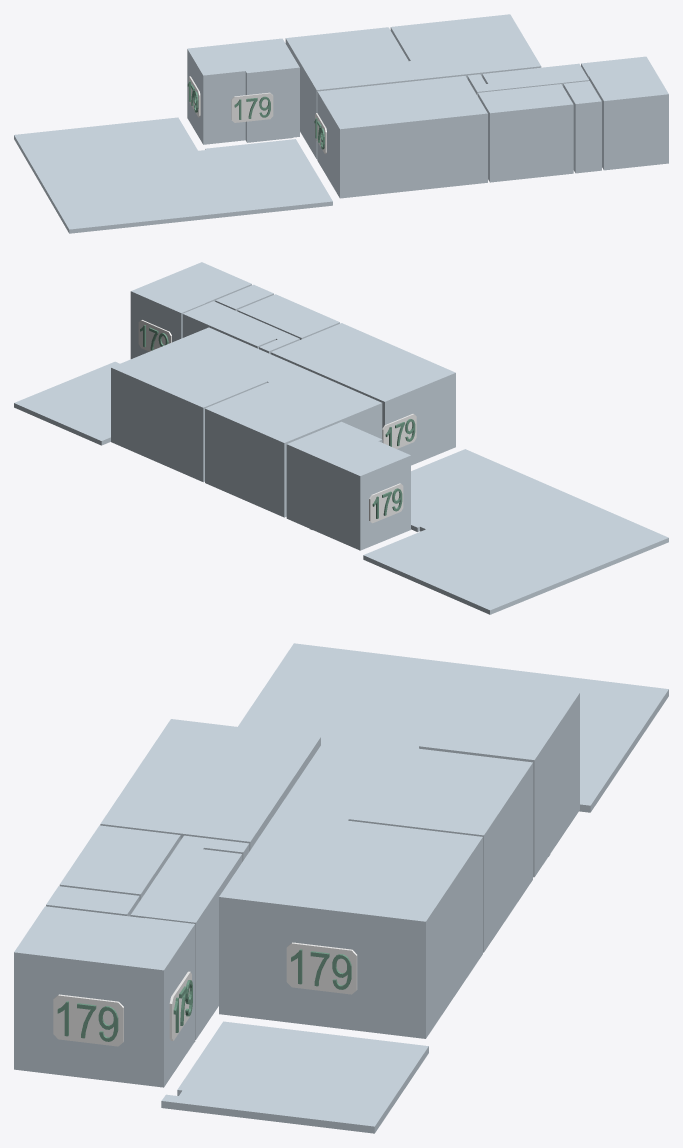
3 renders of one model, top to bottom at view 1: azimuth 30°, elevation 25°; view 2: azimuth 150°, elevation 25°; view 3: azimuth 270°, elevation 25°, orthographic. The views are drawn at different scales.
Parts seen in each view (by area): view 1: g_9, g_1, g_0, g_6, g_2, g_3, g_4, g_7, g_5, g_33; view 2: g_9, g_4, g_3, g_0, g_1, g_2, g_8, g_5, g_6, g_7, g_13, g_29 (+1 smaller); view 3: g_4, g_9, g_2, g_3, g_8, g_1, g_0, g_5, g_6, g_21, g_17, g_7.
Part boxes in pixels (x1=…): g_9: x1=14, y1=117, x2=332, y2=233; g_1: x1=317, y1=76, x2=487, y2=198; g_0: x1=187, y1=38, x2=299, y2=144; g_6: x1=478, y1=84, x2=573, y2=182; g_2: x1=581, y1=56, x2=668, y2=170; g_3: x1=285, y1=27, x2=421, y2=158; g_4: x1=390, y1=14, x2=541, y2=80; g_7: x1=563, y1=81, x2=601, y2=173; g_5: x1=467, y1=63, x2=589, y2=96; g_33: x1=231, y1=92, x2=273, y2=122; g_9: x1=363, y1=449, x2=668, y2=614; g_4: x1=111, y1=327, x2=300, y2=482; g_3: x1=205, y1=367, x2=382, y2=517; g_0: x1=286, y1=421, x2=410, y2=550; g_1: x1=270, y1=323, x2=455, y2=465; g_2: x1=130, y1=262, x2=251, y2=358; g_8: x1=14, y1=361, x2=119, y2=445; g_5: x1=182, y1=301, x2=299, y2=353; g_6: x1=237, y1=294, x2=339, y2=339; g_7: x1=215, y1=284, x2=273, y2=310; g_13: x1=369, y1=483, x2=403, y2=523; g_29: x1=382, y1=414, x2=416, y2=448; g_4: x1=219, y1=812, x2=482, y2=1038; g_9: x1=238, y1=643, x2=668, y2=812; g_2: x1=14, y1=906, x2=195, y2=1087; g_3: x1=276, y1=737, x2=532, y2=952; g_8: x1=161, y1=1021, x2=428, y2=1133; g_1: x1=100, y1=719, x2=320, y2=851; g_0: x1=419, y1=679, x2=579, y2=877; g_5: x1=130, y1=835, x2=249, y2=1039; g_6: x1=59, y1=825, x2=180, y2=900; g_21: x1=286, y1=942, x2=357, y2=994; g_17: x1=53, y1=994, x2=123, y2=1046; g_7: x1=46, y1=886, x2=139, y2=916.
Bounding box in the file's own units: 21.97 × 2.65 × 12.58.
